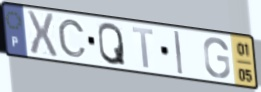C: (56, 18, 89, 59)
G: (202, 36, 232, 80)
I: (172, 29, 184, 77)
Q: (97, 21, 127, 67)
T: (130, 25, 155, 71)
X: (25, 8, 60, 58)
